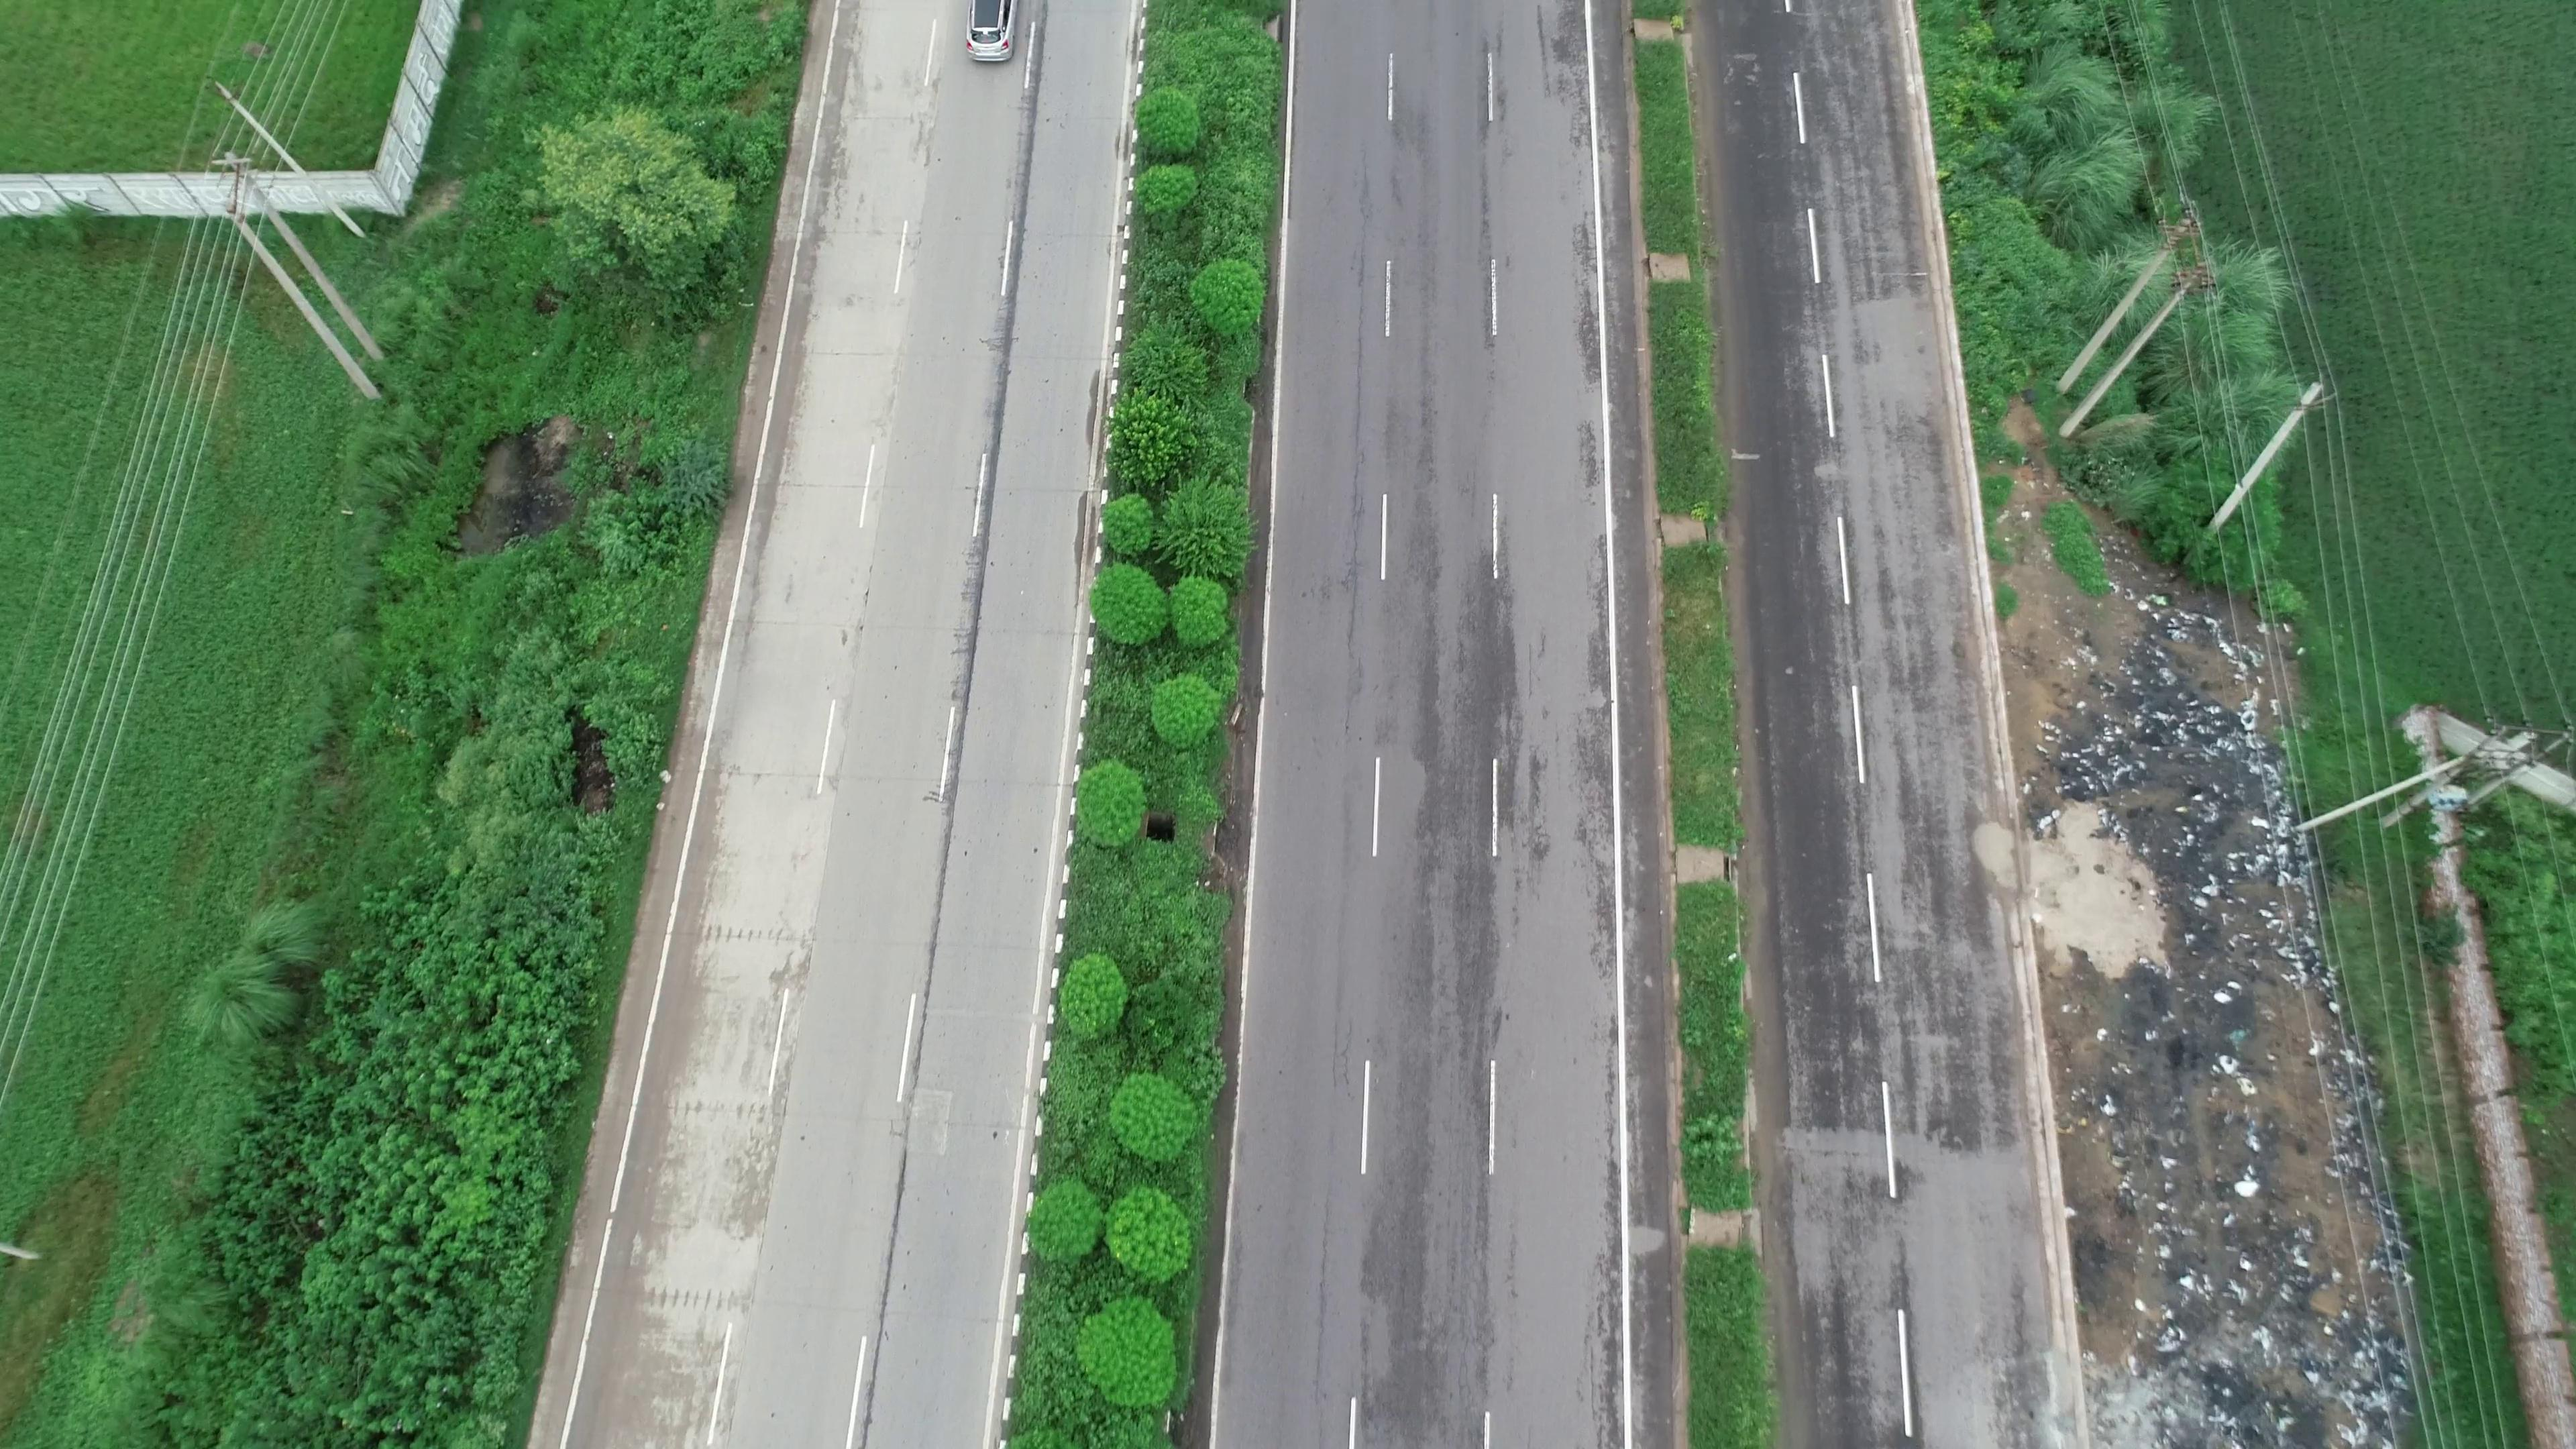Longitudinal_cracks: (1323, 189, 1378, 686)
